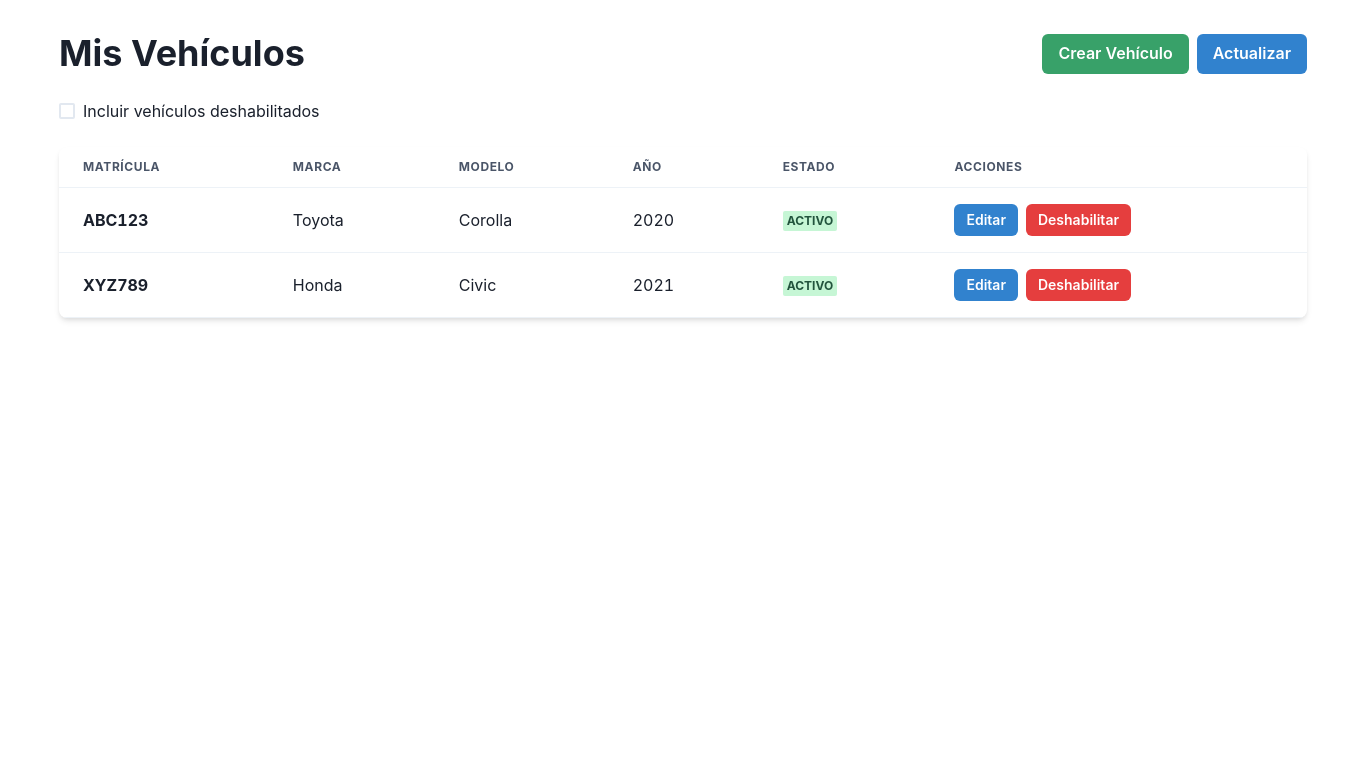
VehicleManagementPage › as CLIENT › should open create modal when clicking create button
expect the text "ABC123" is shown: met, box left=59, top=188, right=269, bottom=253
Click the button "Crear Vehículo".
click(1116, 54)  # box left=1042, top=34, right=1189, bottom=74
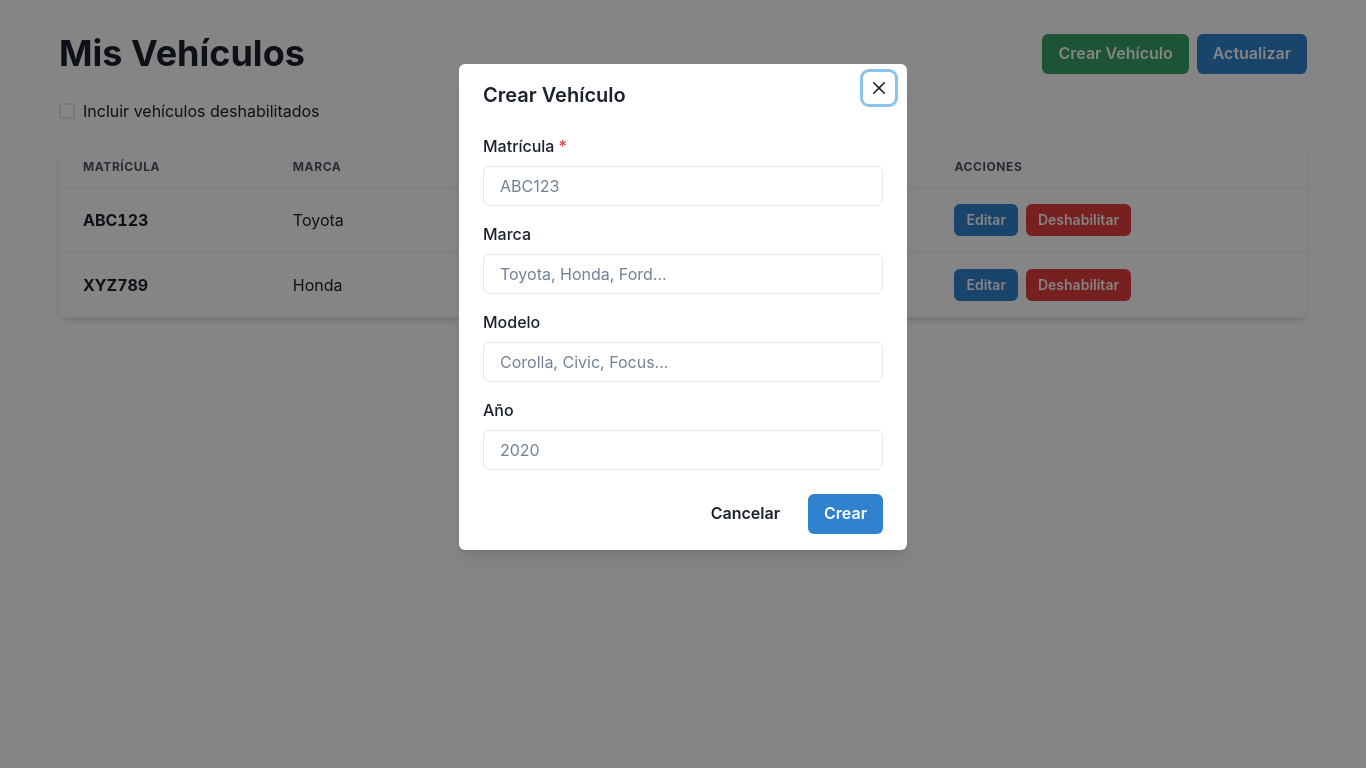
expect the field labelled "Matrícula*" is shown: met, box left=483, top=166, right=883, bottom=206
expect the field labelled "Marca" is shown: met, box left=483, top=254, right=883, bottom=294
expect the field labelled "Modelo" is shown: met, box left=483, top=342, right=883, bottom=382
